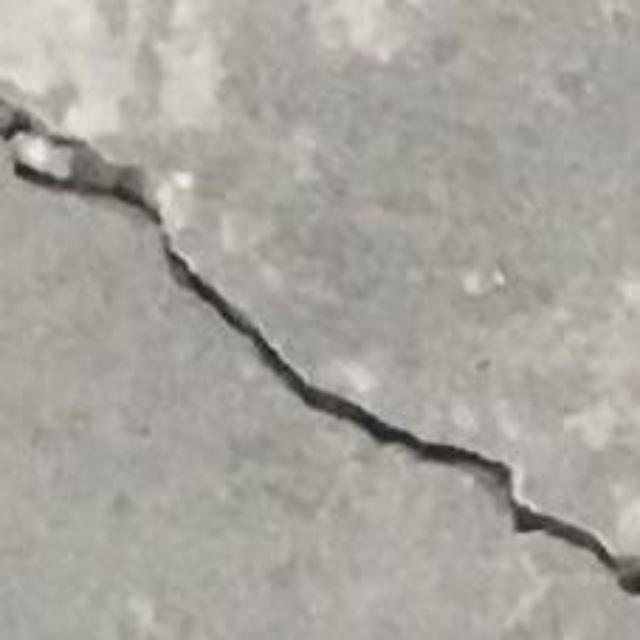crack: (0, 99, 639, 594)
peeling plaster: (0, 0, 225, 163)
